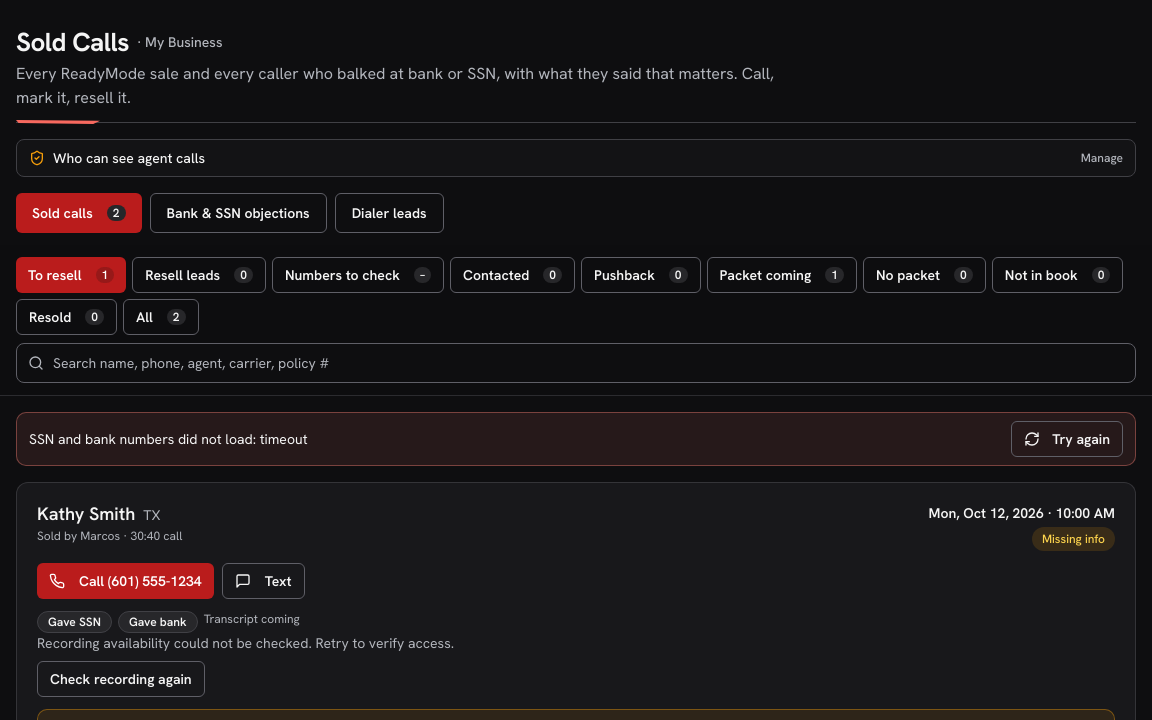
Sold Calls › never shows Add or a 0 count for numbers it could not read
Click the button "Numbers to check –" at (358, 275), box [272,257,444,293]
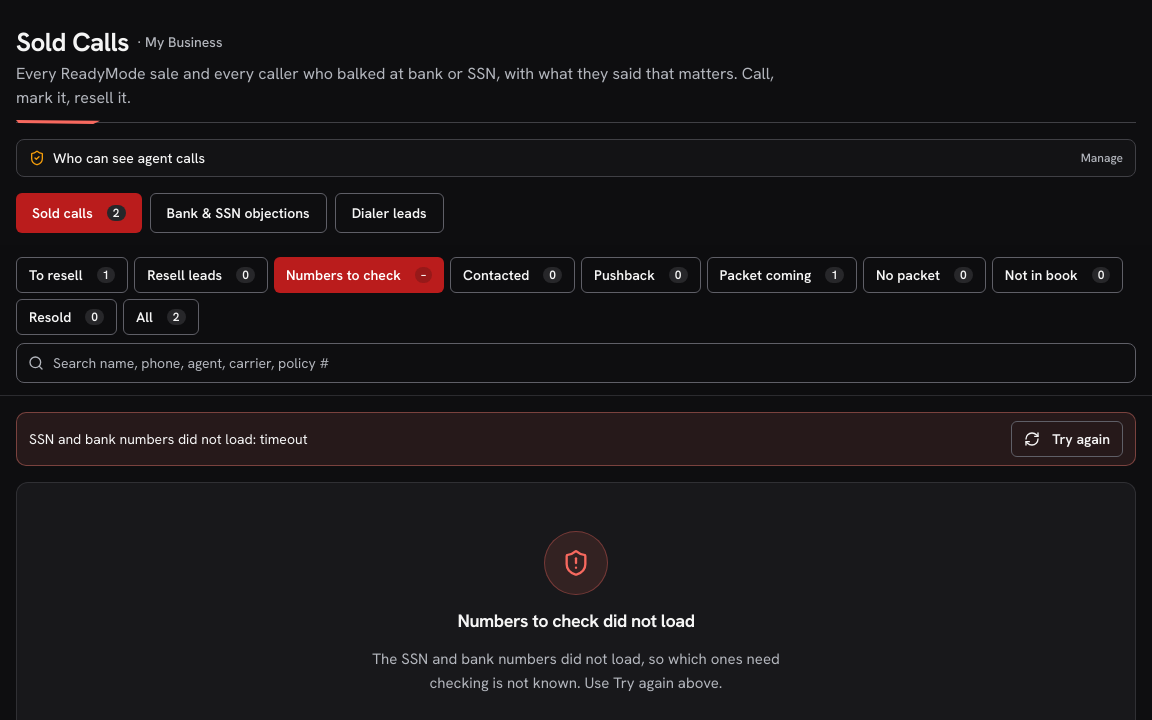
Result: the heading "Numbers to check did not load" is shown at [458,607,694,635]
